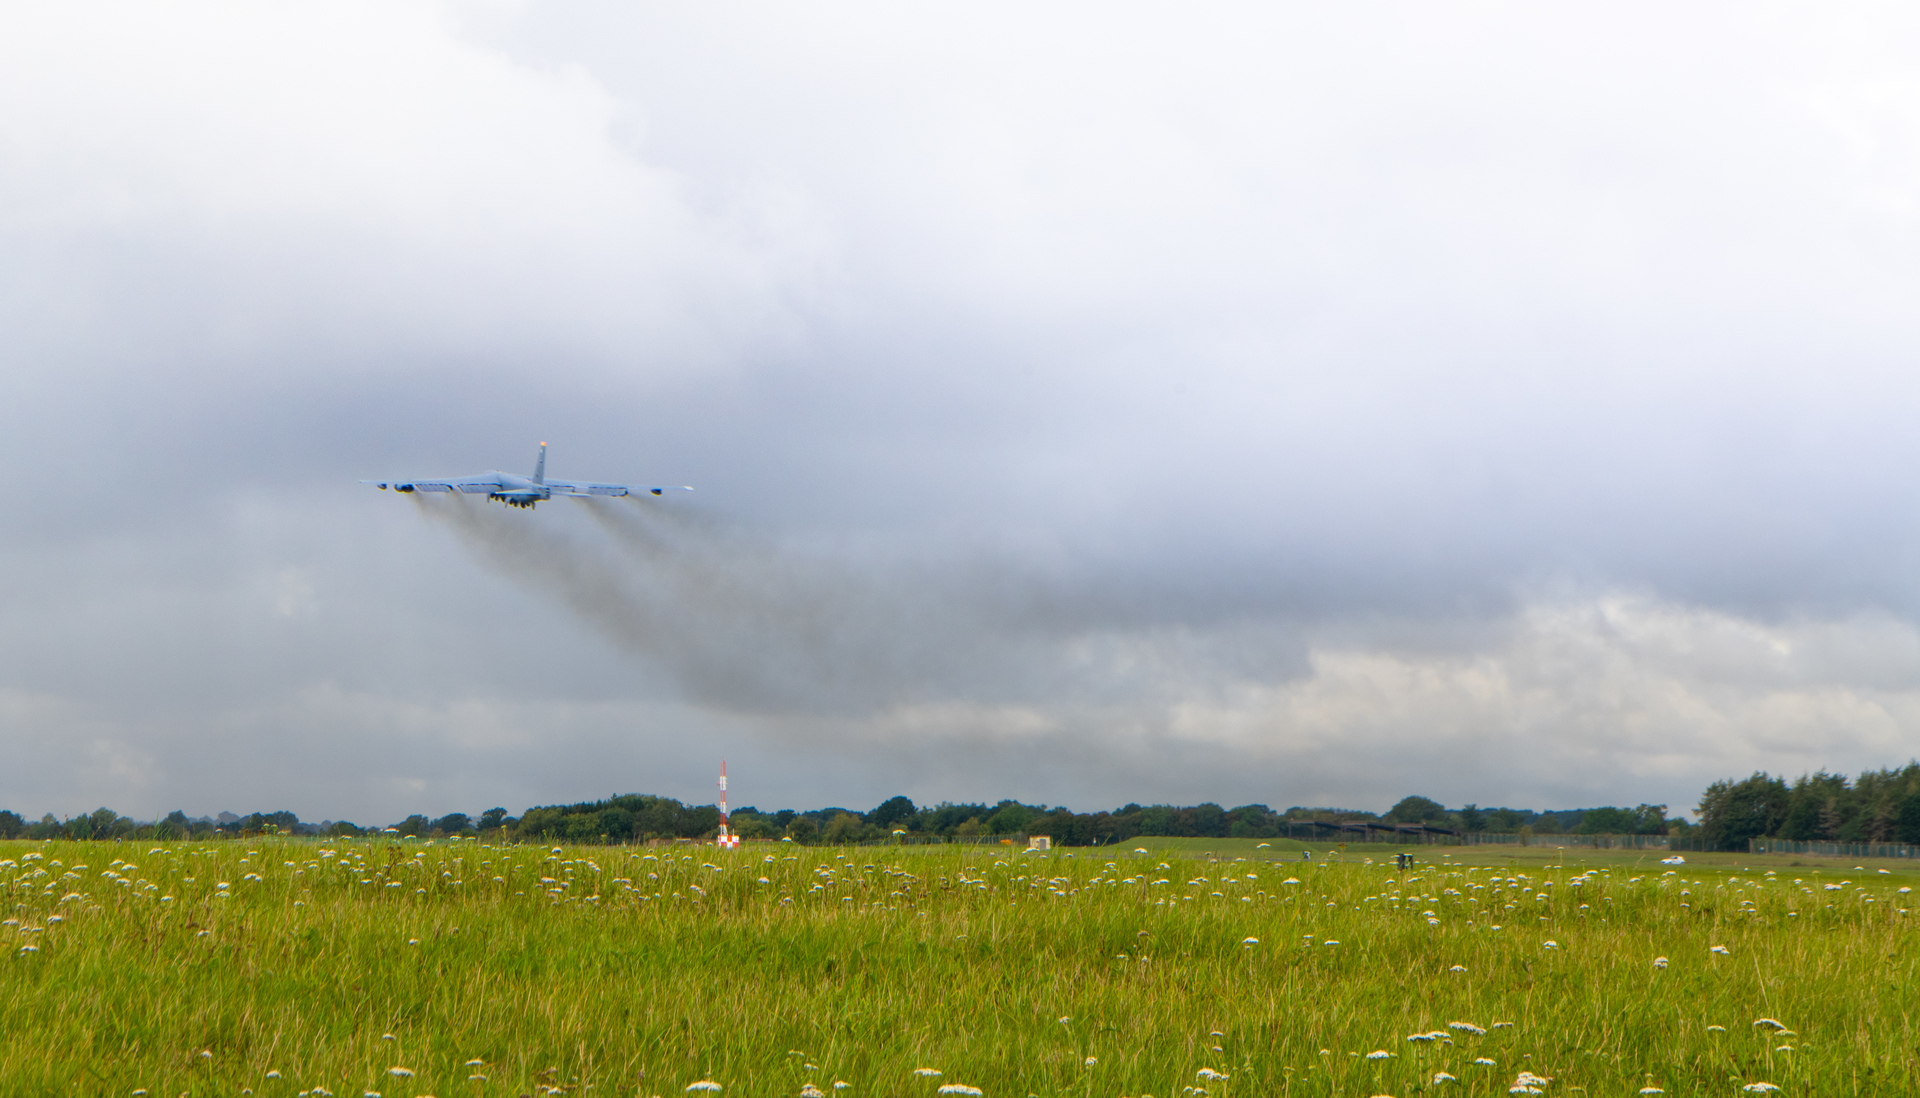B52: (357, 440, 695, 511)
